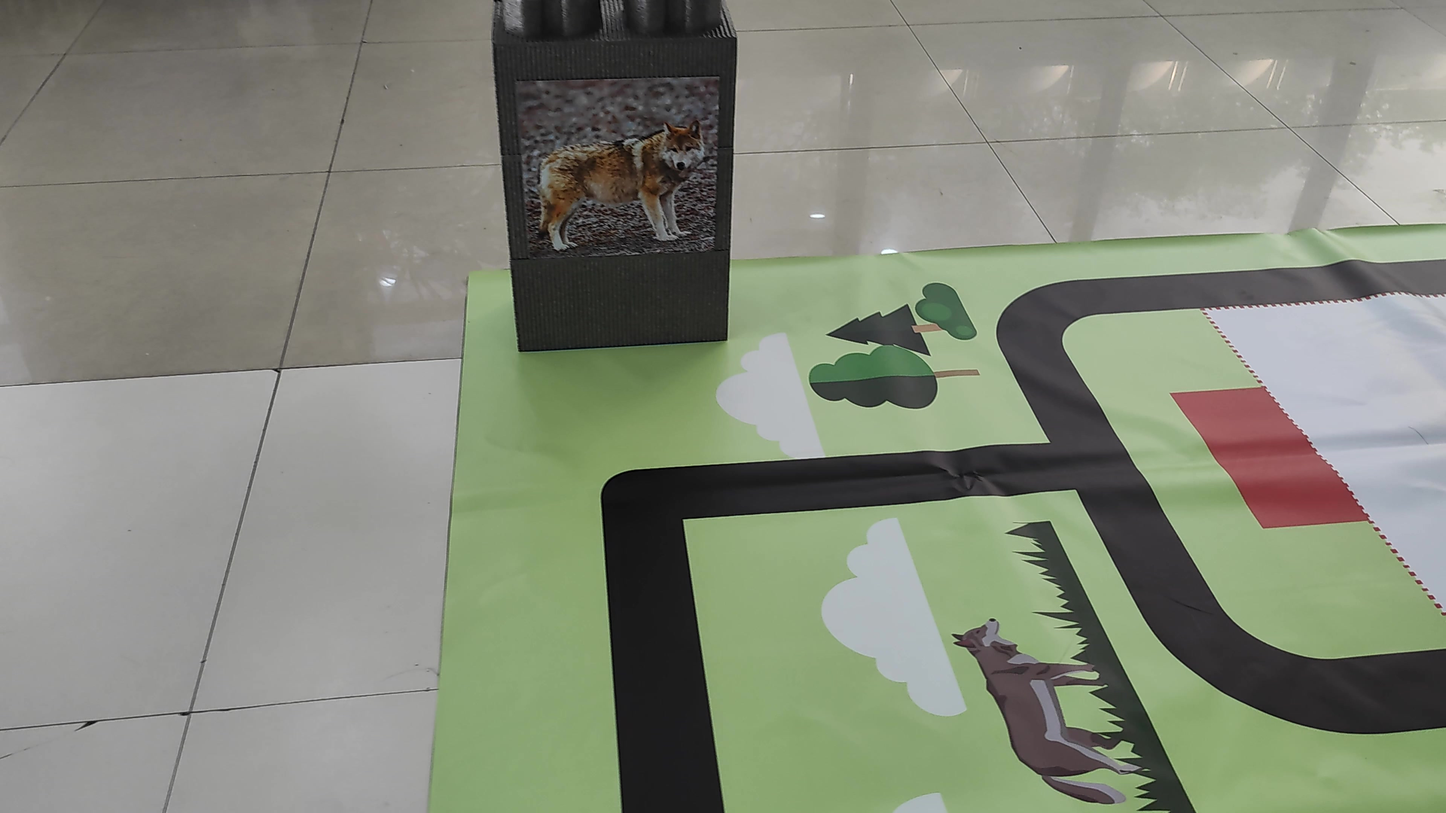wolf: (532, 88, 708, 257)
